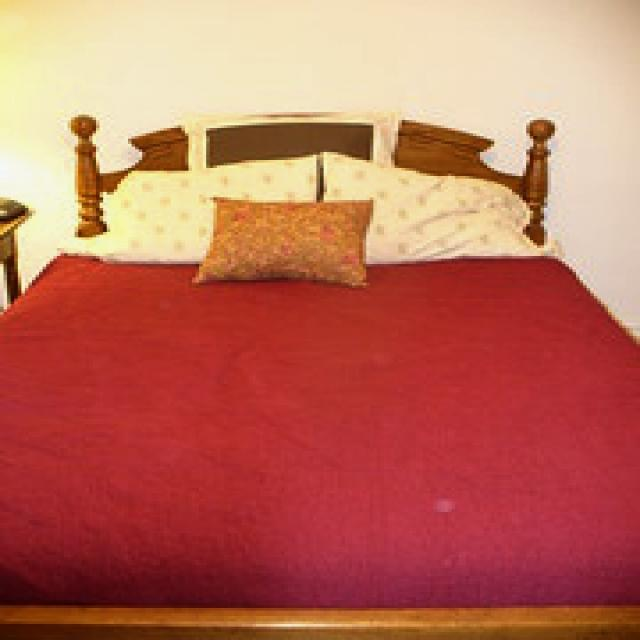bed: (0, 104, 629, 640)
